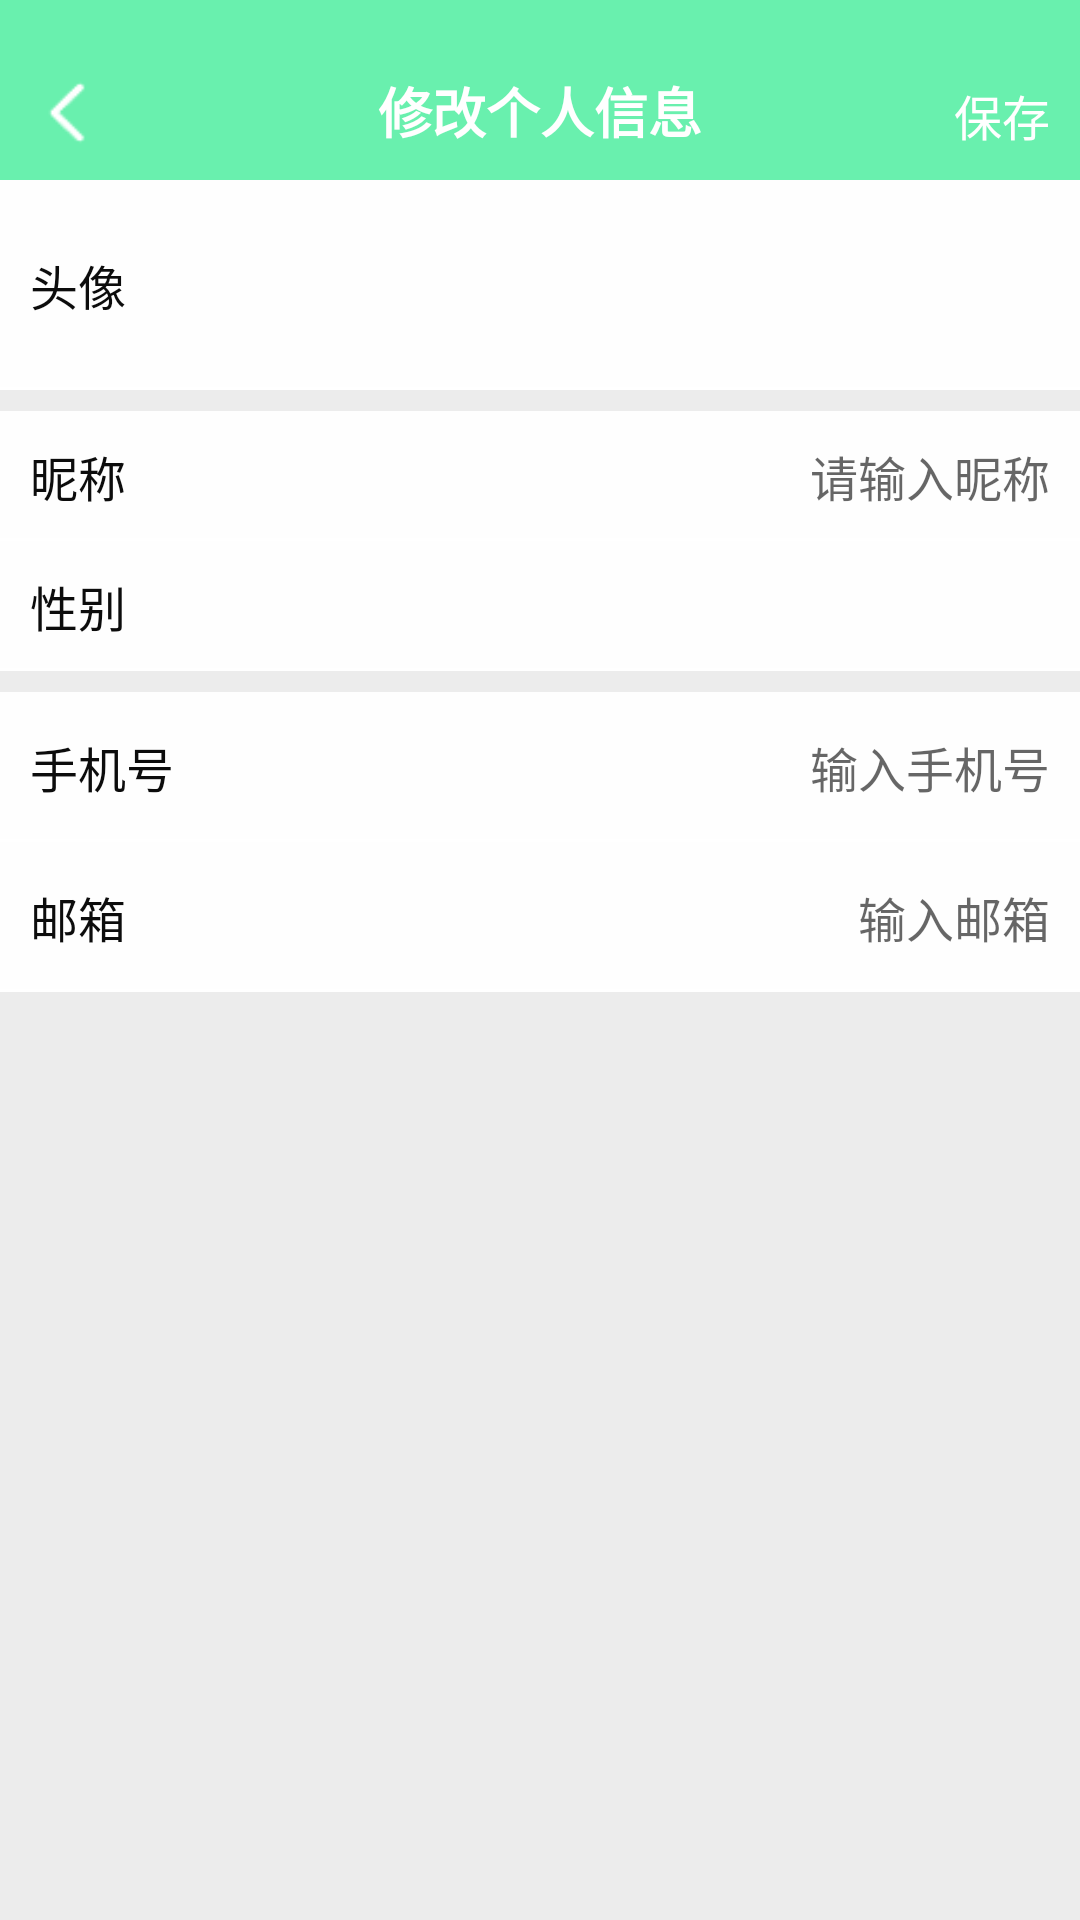

Icon bounding boxes for this 1080*1920 phone screenshot, format (x1,y1,x2,y2):
back: (50,83,85,142)
